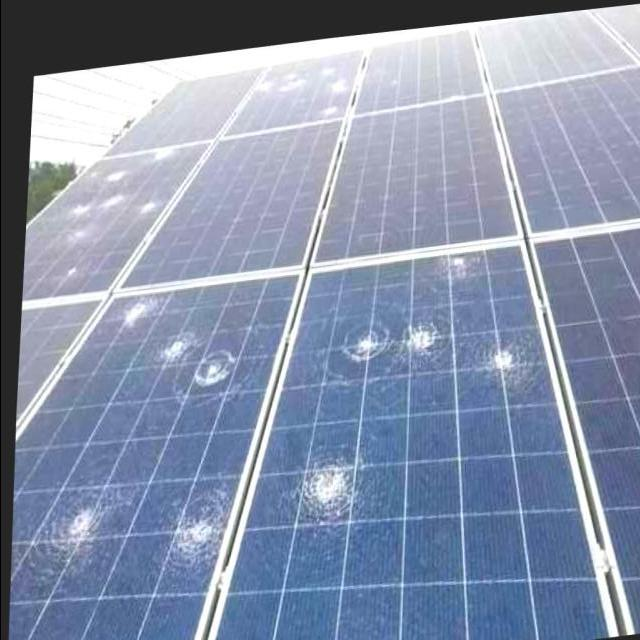cracked: (255, 231, 604, 638), (15, 285, 256, 626), (17, 146, 195, 284), (225, 48, 361, 130)
